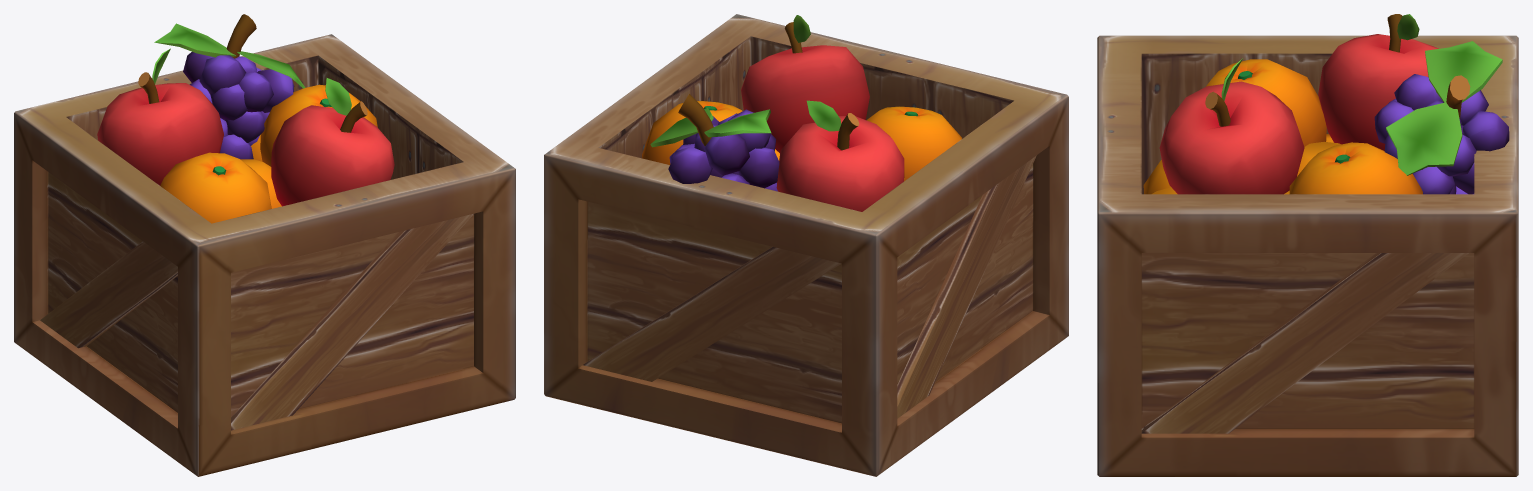
File: WoodBox2.fbx
3 renders of one model, left to right at view 1: azimuth 30°, elevation 25°; view 2: azimuth 150°, elevation 25°; view 3: azimuth 270°, elevation 25°, orthographic. The views are drawn at different scales.
Parts seen in each view (by area): view 1: WoodBox1, WoodBox1_Fruits_Apple; view 2: WoodBox1, WoodBox1_Fruits_Apple; view 3: WoodBox1, WoodBox1_Fruits_Apple.
Part boxes in pixels (x1,y1,x2,y2): WoodBox1: [14, 34, 515, 476]; WoodBox1_Fruits_Apple: [97, 14, 394, 223]; WoodBox1: [544, 14, 1068, 476]; WoodBox1_Fruits_Apple: [642, 15, 962, 211]; WoodBox1: [1097, 35, 1518, 476]; WoodBox1_Fruits_Apple: [1143, 14, 1509, 194].
Bounding box in the file's own units: 100 × 91.67 × 100.
